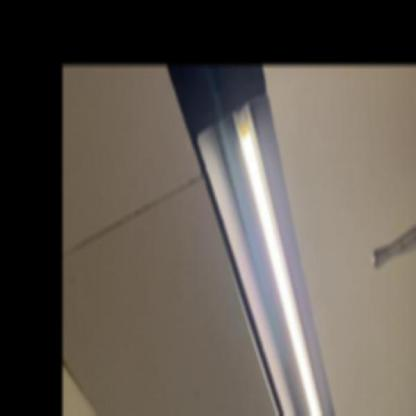light_on: (224, 100, 336, 414)
